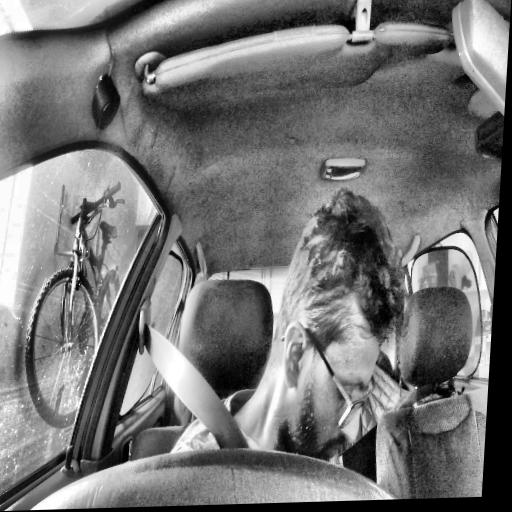drowsy: (258, 186, 419, 480)
